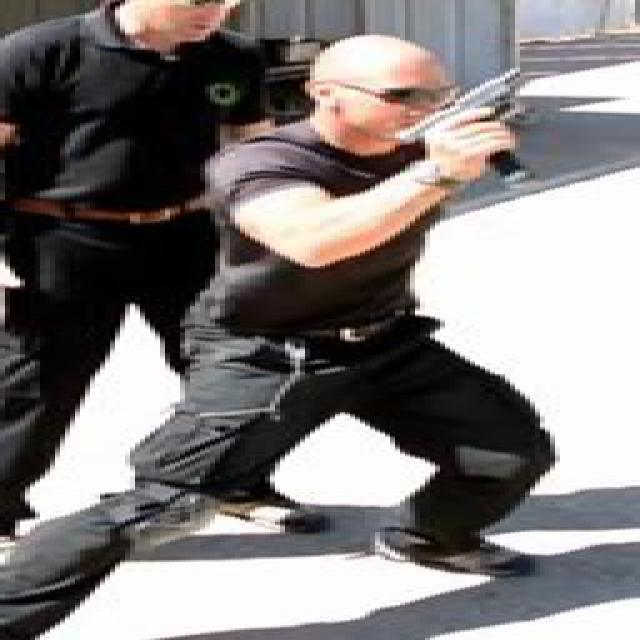gun: (395, 66, 540, 180)
